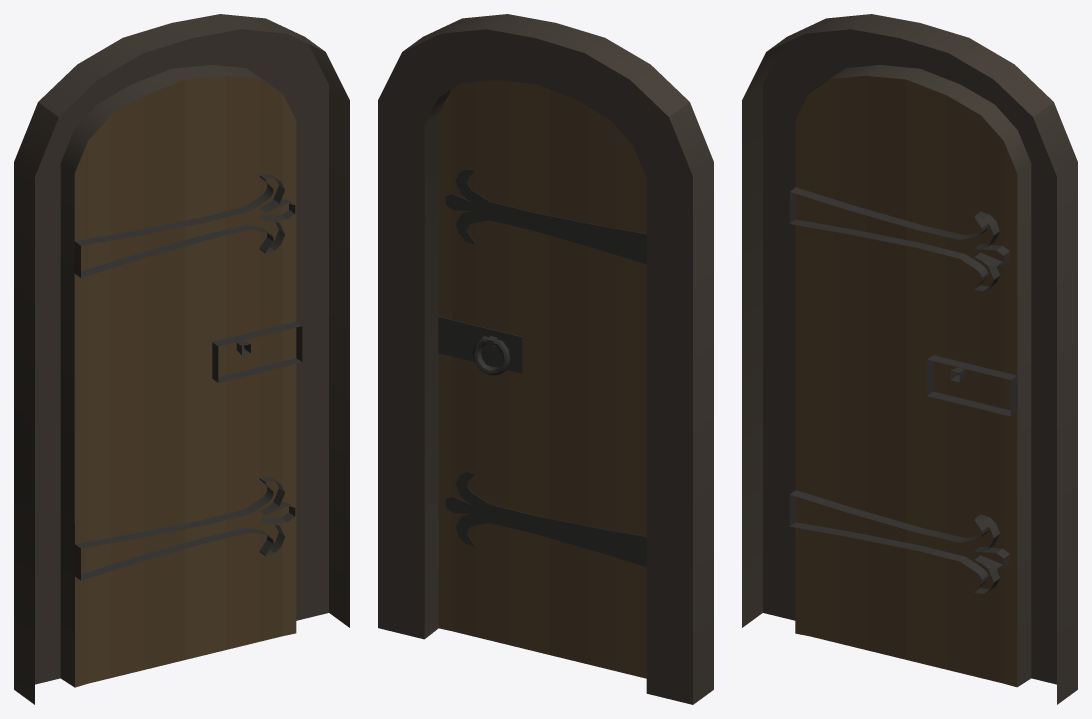
The model's file is Prop_door.fbx.
3 views of the same model, side by side, from view 1: azimuth 30°, elevation 25°; view 2: azimuth 150°, elevation 25°; view 3: azimuth 330°, elevation 25° (orthographic).
Visible parts, largest first — view 1: door_prop; view 2: door_prop; view 3: door_prop.
Part boxes in pixels (x1,y1,x2,y2): door_prop: [14, 14, 349, 704]; door_prop: [378, 14, 713, 704]; door_prop: [742, 14, 1077, 704].
Size of the model in its own units: 127 by 243 by 14.57.
